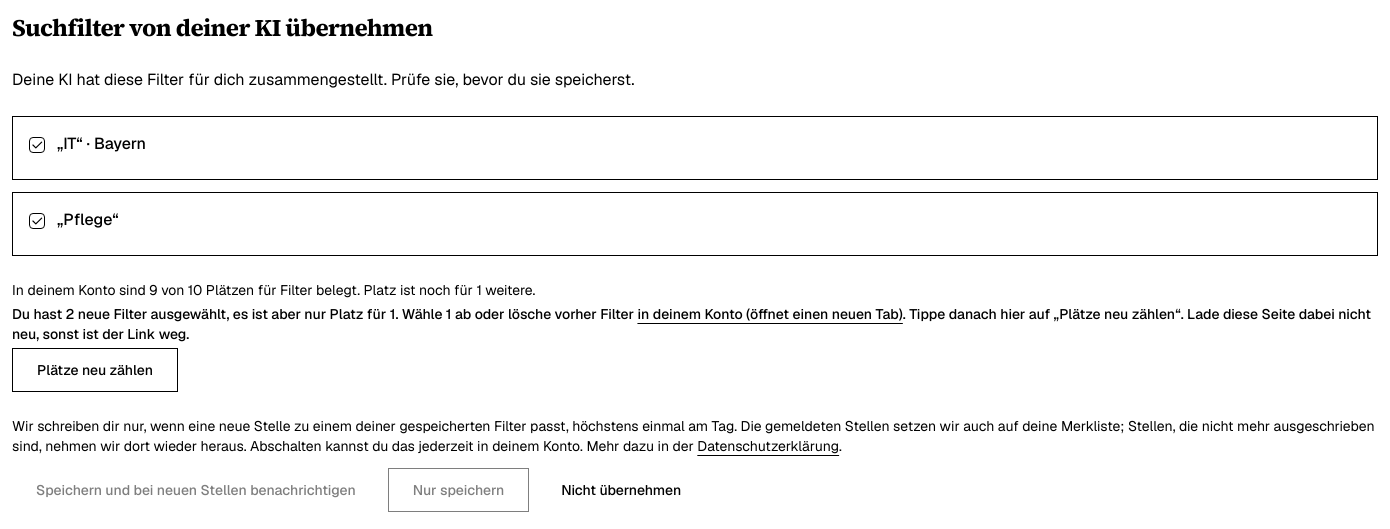
Test case: SuchprofilImport › sperrt das Speichern, solange die Auswahl nicht in die freien Plaetze passt
The image size is (1390, 529).
Expected: the checkbox named "IT" next to "„IT“ · Bayern" is shown, left=29, top=137, right=45, bottom=153
Expected: the text "Du hast 2 neue Filter ausgewählt, es ist aber nur Platz für 1" is shown, left=12, top=304, right=1378, bottom=344
Note: Ein Tipp auf den Titel (das Label) schaltet die Checkbox mit.
Click the checkbox "„Pflege“" at (88,220), box left=57, top=209, right=119, bottom=231
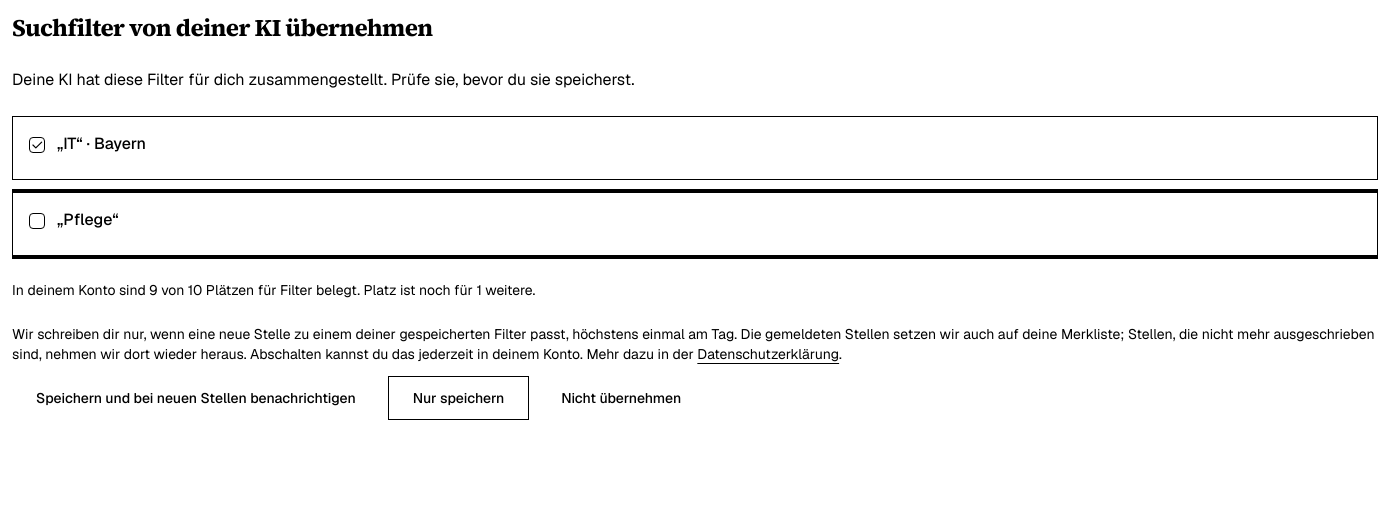
Expected: the text "es ist aber nur Platz" is gone
Expected: the button "Nur speichern" is enabled, left=388, top=376, right=529, bottom=420
